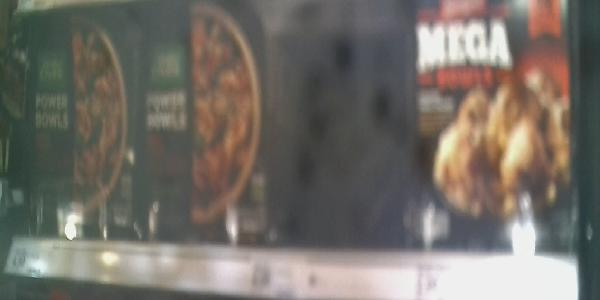pizza1: (415, 1, 575, 254), (134, 2, 274, 246), (1, 7, 134, 238)
